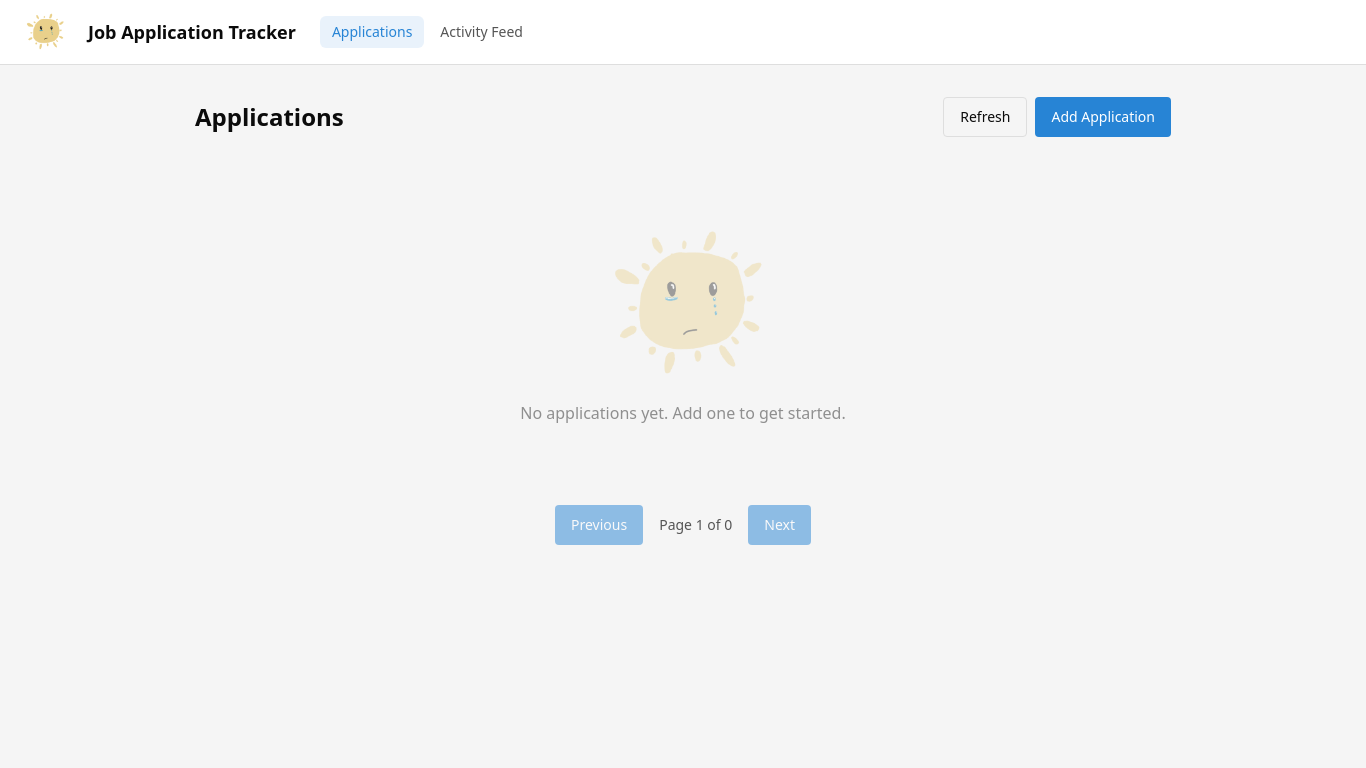
Scenario: JobApplicationsPage › opens create modal when Add Application clicked
The width and height of the screenshot is (1366, 768).
Click the button "Add Application" at (1103, 117), box [1035,97,1171,137]
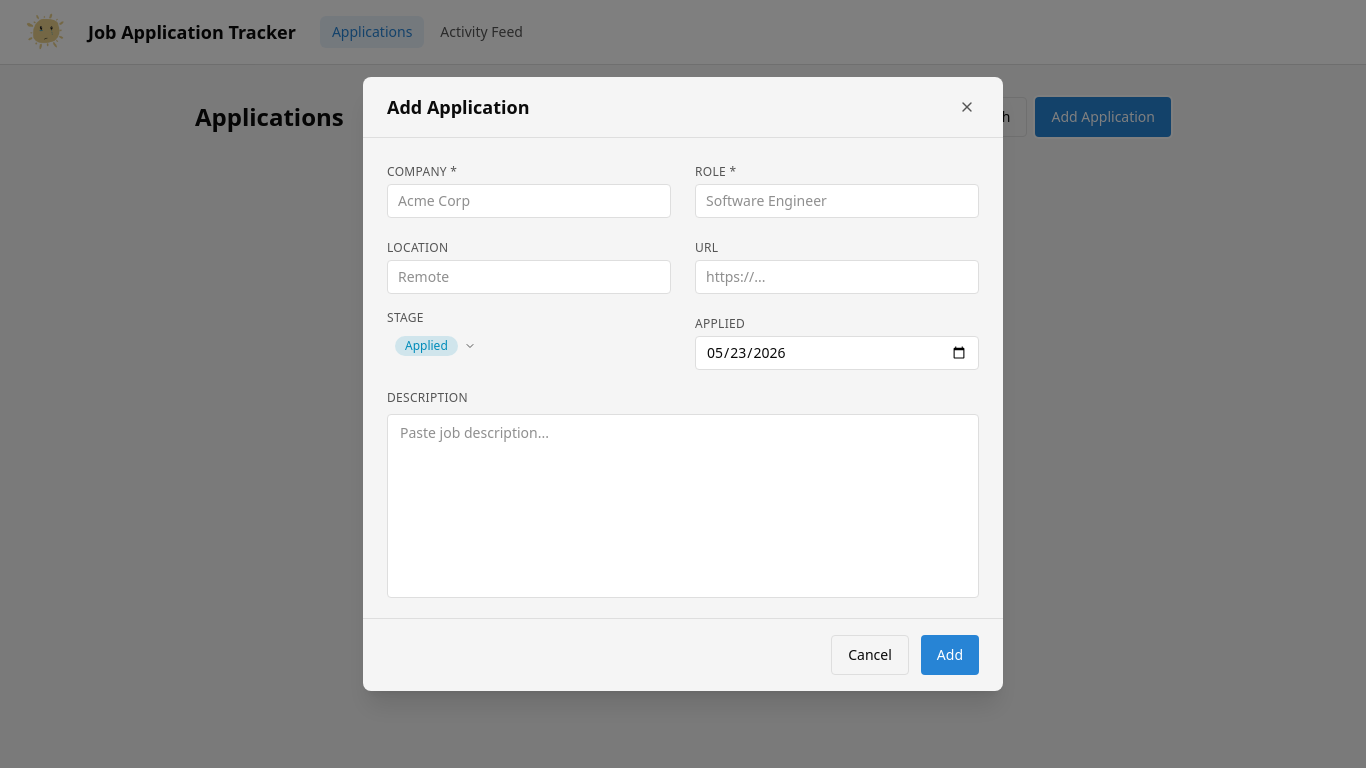
Expected: the dialog is shown, [363,77,1003,691]
